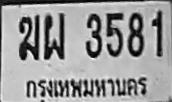1: (151, 10, 162, 57)
3: (84, 13, 101, 57)
5: (106, 12, 123, 57)
8: (128, 12, 144, 56)
A06: (18, 14, 40, 60)
A28: (43, 13, 65, 60)
BKK: (22, 71, 151, 102)
